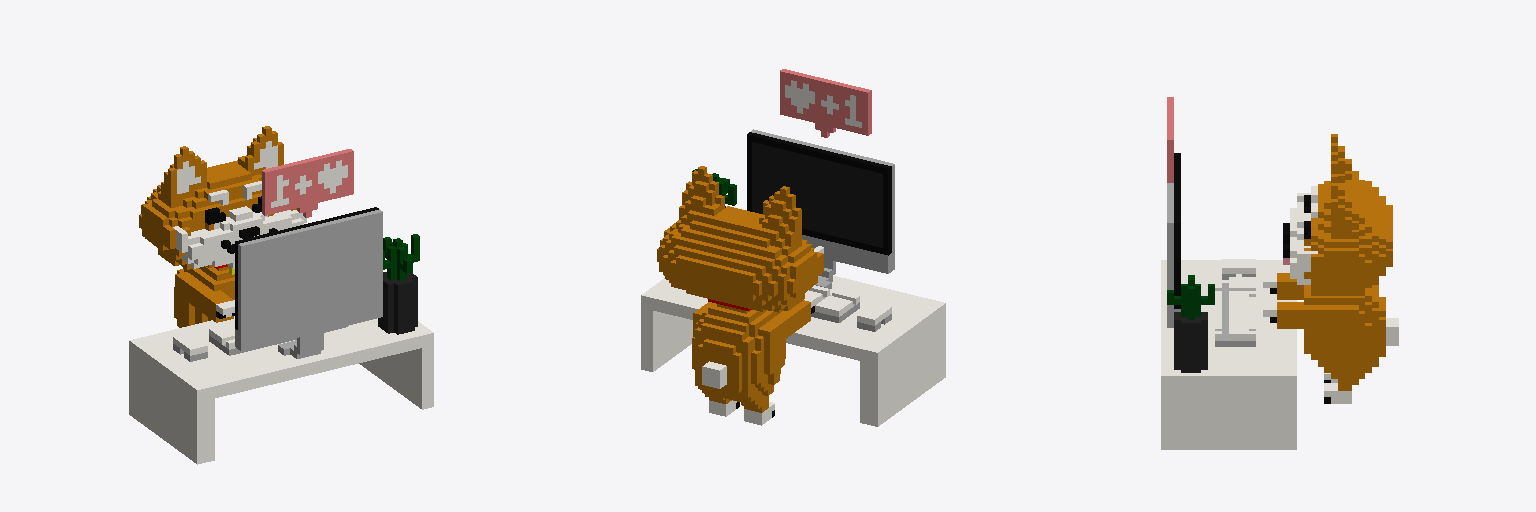
3 views of the same model, side by side, from view 1: azimuth 30°, elevation 25°; view 2: azimuth 150°, elevation 25°; view 3: azimuth 270°, elevation 25° (orthographic).
Parts seen in each view (by area): view 1: object 1; view 2: object 1; view 3: object 1.
Part boxes in pixels (bbox=[...]): object 1: bbox=[129, 126, 433, 464]; object 1: bbox=[641, 69, 945, 426]; object 1: bbox=[1161, 97, 1398, 449].
Bounding box in the file's own units: 4 × 4.4 × 3.5.
1 materials, 1 textured.